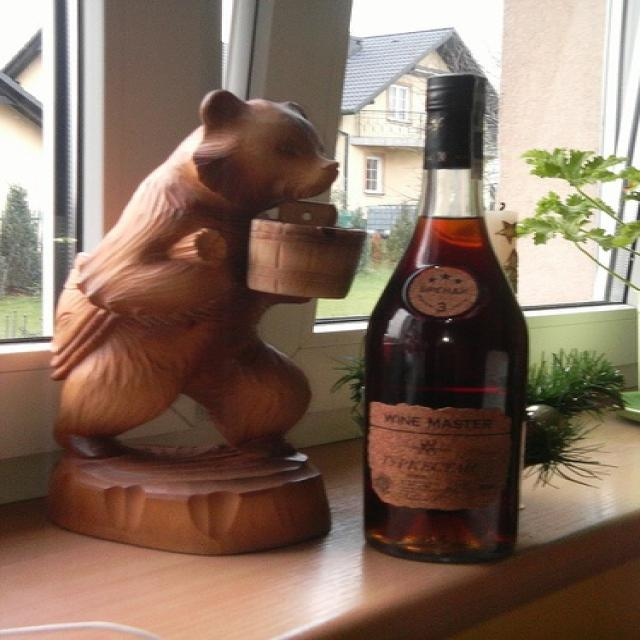bottle: (362, 74, 531, 564)
pottedplant: (331, 348, 625, 489), (516, 146, 638, 290)
